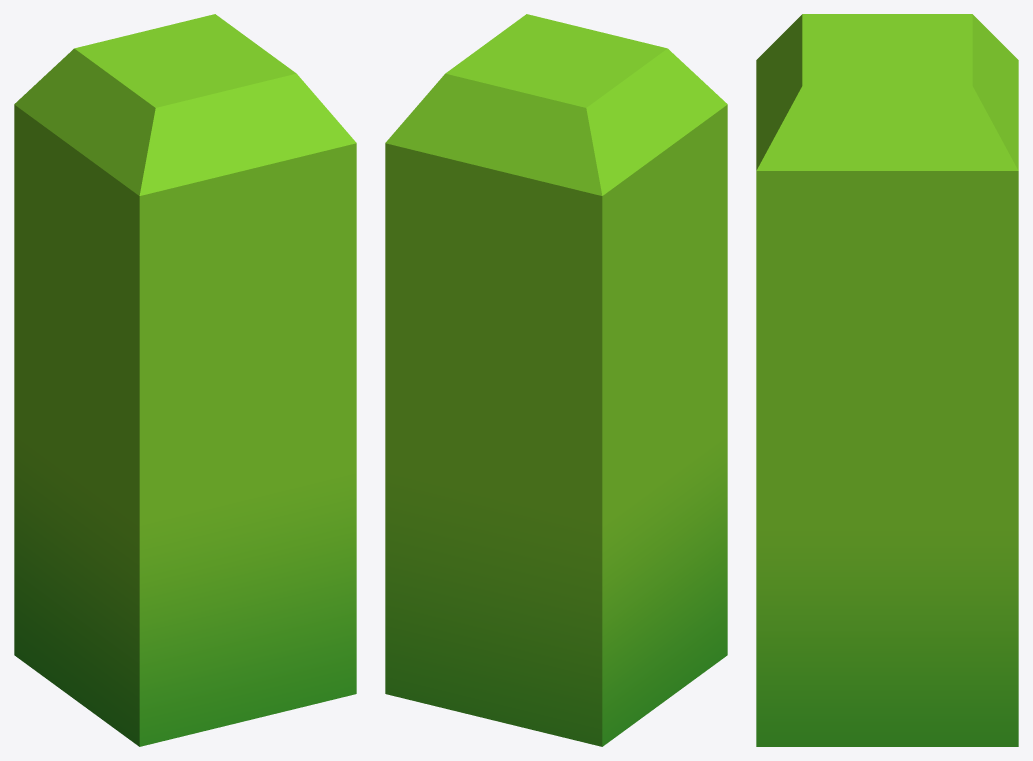
Rendered from Crystal014.fbx.
3 views of the same model, side by side, from view 1: azimuth 30°, elevation 25°; view 2: azimuth 150°, elevation 25°; view 3: azimuth 270°, elevation 25° (orthographic). The views are drawn at different scales.
Parts seen in each view (by area): view 1: Crystal014; view 2: Crystal014; view 3: Crystal014.
Boxes of the visible parts, box(x1,y1,x2,y2) form: Crystal014: box(14, 14, 356, 746); Crystal014: box(385, 14, 727, 746); Crystal014: box(756, 14, 1018, 746).
Bounding box in the file's own units: 25.43 × 68.64 × 25.43.
